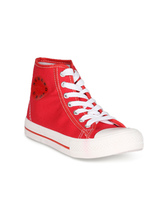shoes: (18, 54, 151, 161)
